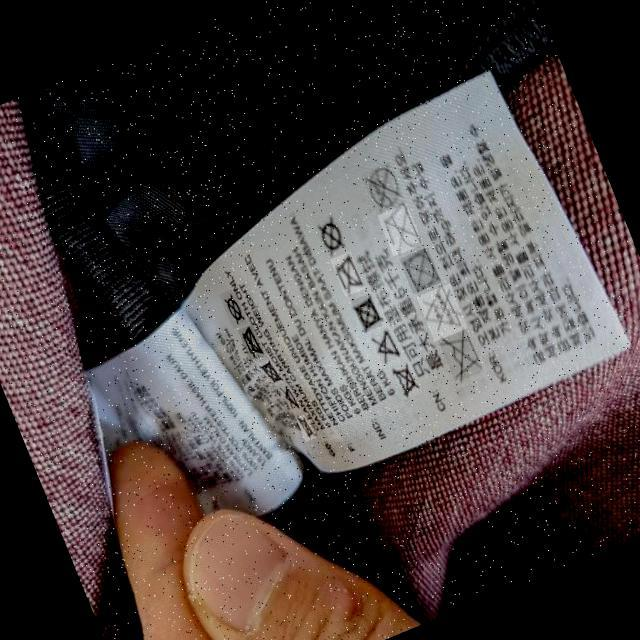DN_bleach: (422, 286, 466, 337), (373, 332, 402, 361), (282, 387, 298, 409)
DN_dry_clean: (366, 163, 403, 209), (318, 217, 345, 255), (224, 297, 244, 325)
DN_iron: (384, 206, 421, 252), (333, 254, 362, 295), (242, 325, 266, 361)
DN_tumble_dry: (403, 250, 442, 292), (353, 295, 383, 332), (262, 361, 285, 383)
DN_wash: (441, 332, 479, 387), (395, 365, 419, 396)
